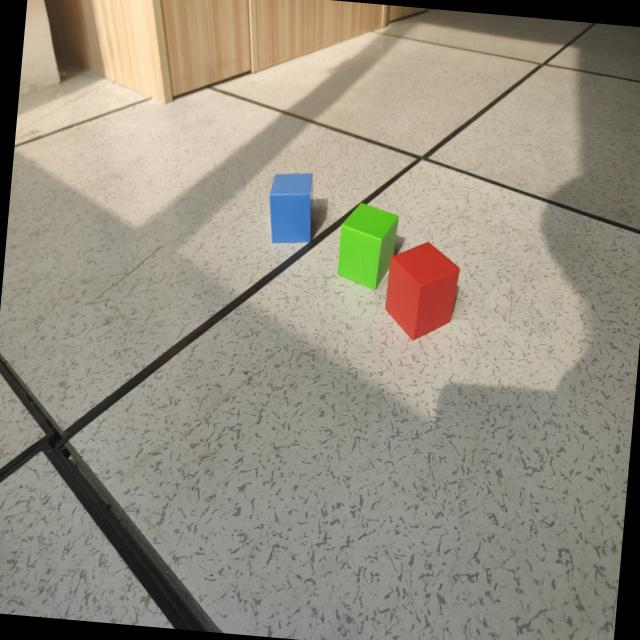blue: (267, 173, 314, 248)
green: (335, 204, 399, 290)
red: (385, 243, 460, 341)
